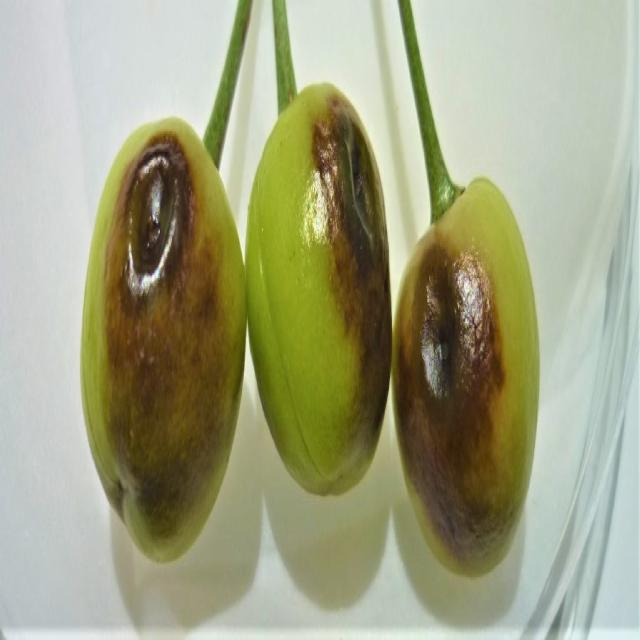Olive Fruit Fly: (81, 118, 246, 561), (246, 84, 391, 493), (393, 179, 539, 575)
